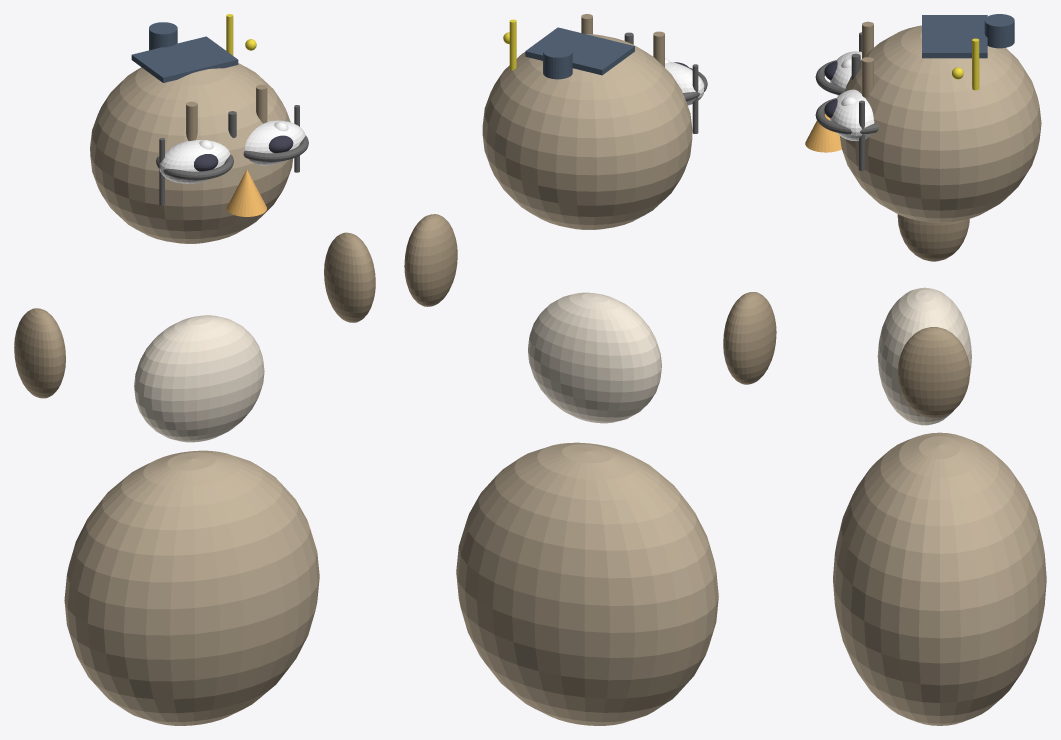
The model's file is OwlTeacher_teach.fbx.
3 views of the same model, side by side, from view 1: azimuth 30°, elevation 25°; view 2: azimuth 150°, elevation 25°; view 3: azimuth 270°, elevation 25° (orthographic). The views are drawn at different scales.
Parts seen in each view (by area): view 1: OwlBody, OwlHead, OwlBelly, OwlWing_L, OwlWing_R, OwlCap_Base, OwlEye_L, OwlEye_R, OwlBeak, OwlGlasses_Frame_L, OwlCap_Top, OwlGlasses_Frame_R; view 2: OwlBody, OwlHead, OwlBelly, OwlWing_R, OwlWing_L, OwlCap_Base, OwlCap_Top, OwlEye_L; view 3: OwlBody, OwlHead, OwlWing_R, OwlBelly, OwlCap_Base, OwlWing_L, OwlEye_R, OwlCap_Top, OwlBeak, OwlGlasses_Frame_R, OwlEye_L, OwlBrow_R (+1 smaller).
Boxes of the visible parts, <box> form: OwlBody: <box>64,450,319,725</box>; OwlHead: <box>90,63,292,243</box>; OwlBelly: <box>134,315,264,442</box>; OwlWing_L: <box>14,308,65,398</box>; OwlWing_R: <box>324,232,375,322</box>; OwlCap_Base: <box>131,36,238,82</box>; OwlEye_L: <box>159,140,230,183</box>; OwlEye_R: <box>244,120,305,165</box>; OwlBeak: <box>226,169,266,216</box>; OwlGlasses_Frame_L: <box>156,154,233,180</box>; OwlCap_Top: <box>149,22,177,50</box>; OwlGlasses_Frame_R: <box>243,135,308,161</box>; OwlBody: <box>456,442,718,725</box>; OwlHead: <box>482,34,692,229</box>; OwlBelly: <box>528,292,661,423</box>; OwlWing_R: <box>404,214,457,306</box>; OwlWing_L: <box>723,292,776,384</box>; OwlCap_Base: <box>525,27,634,75</box>; OwlCap_Top: <box>543,45,572,79</box>; OwlEye_L: <box>665,62,704,105</box>; OwlBody: <box>833,432,1046,725</box>; OwlHead: <box>840,25,1041,222</box>; OwlWing_R: <box>897,327,969,418</box>; OwlBelly: <box>877,287,971,425</box>; OwlCap_Base: <box>922,15,987,58</box>; OwlWing_L: <box>897,214,969,261</box>; OwlEye_R: <box>830,89,874,141</box>; OwlCap_Top: <box>984,14,1014,48</box>; OwlBeak: <box>805,113,841,152</box>; OwlGlasses_Frame_R: <box>815,98,878,134</box>; OwlEye_L: <box>830,51,861,95</box>; OwlBrow_R: <box>862,57,873,97</box>.
Size of the model in its own units: 0.1394 by 0.2586 by 0.0807.
